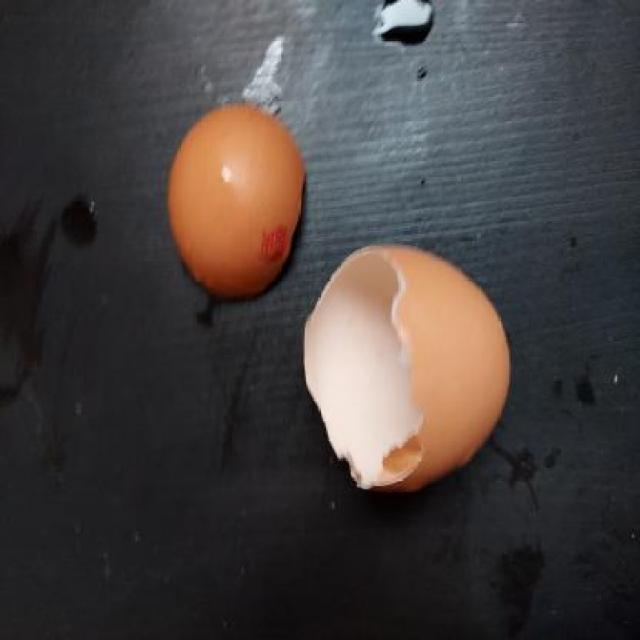biodegradable: (293, 238, 518, 496), (166, 97, 306, 305)
